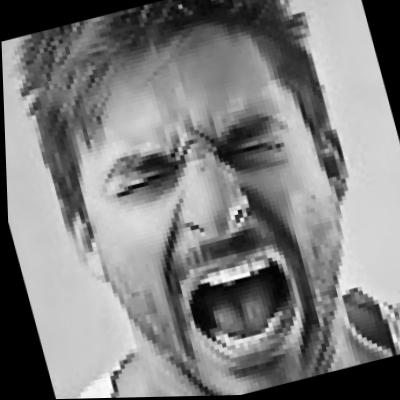angry: (61, 16, 382, 399)
